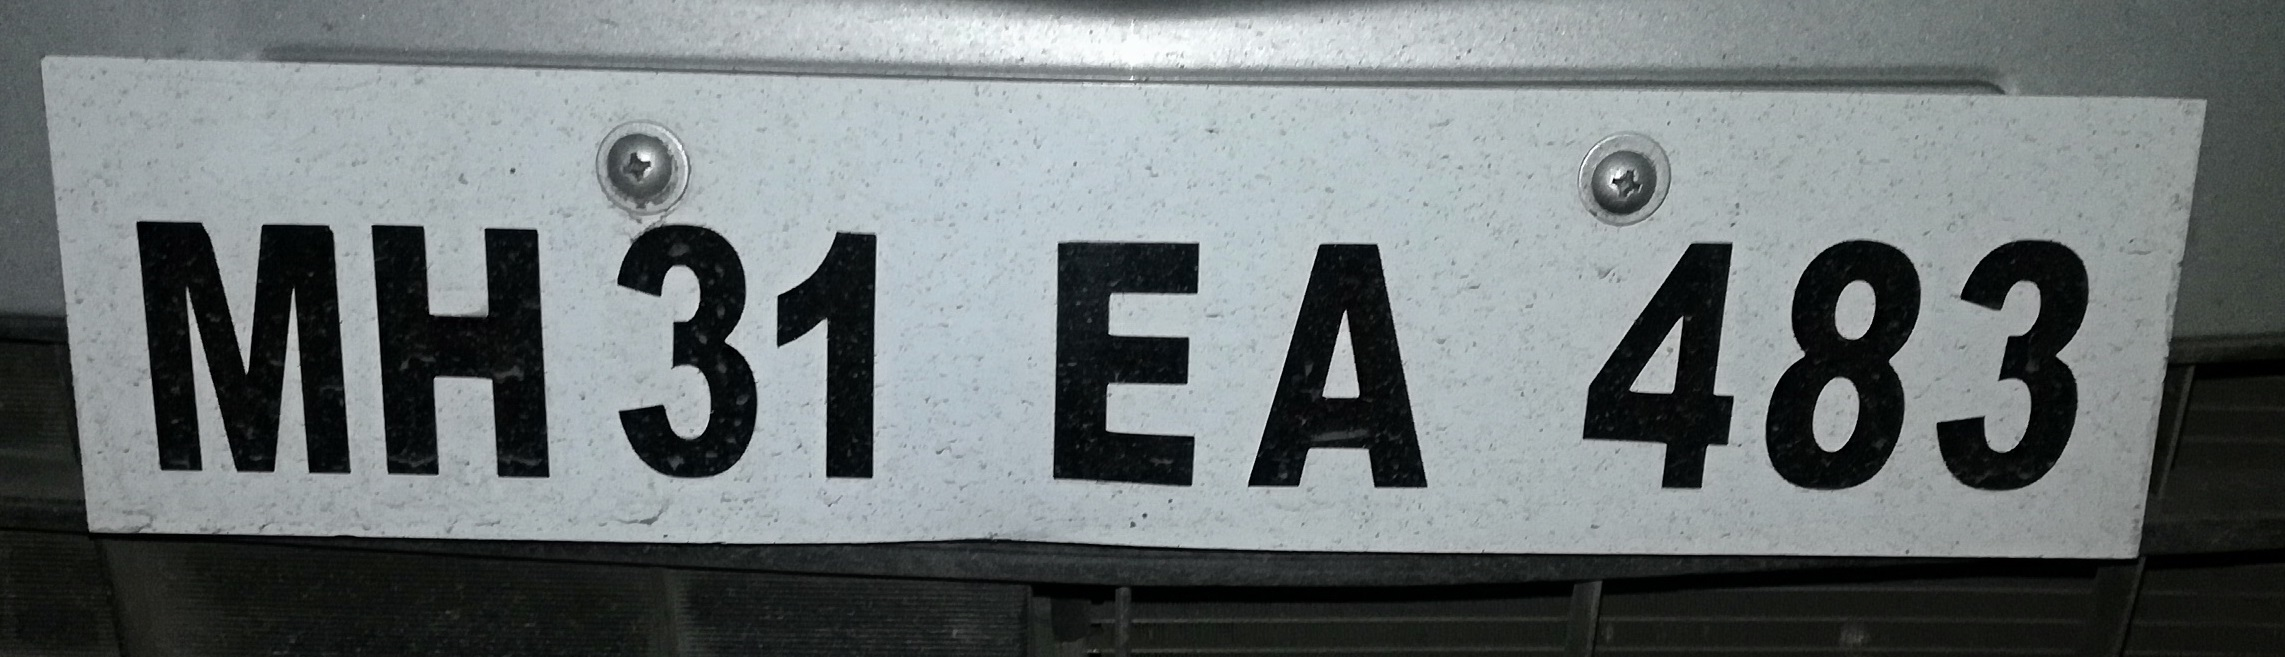numberplate: (26, 44, 2210, 566)
